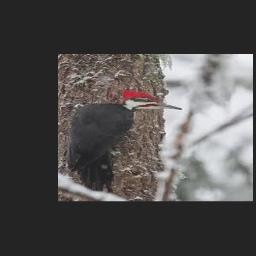Woodpecker: (72, 89, 182, 192)
